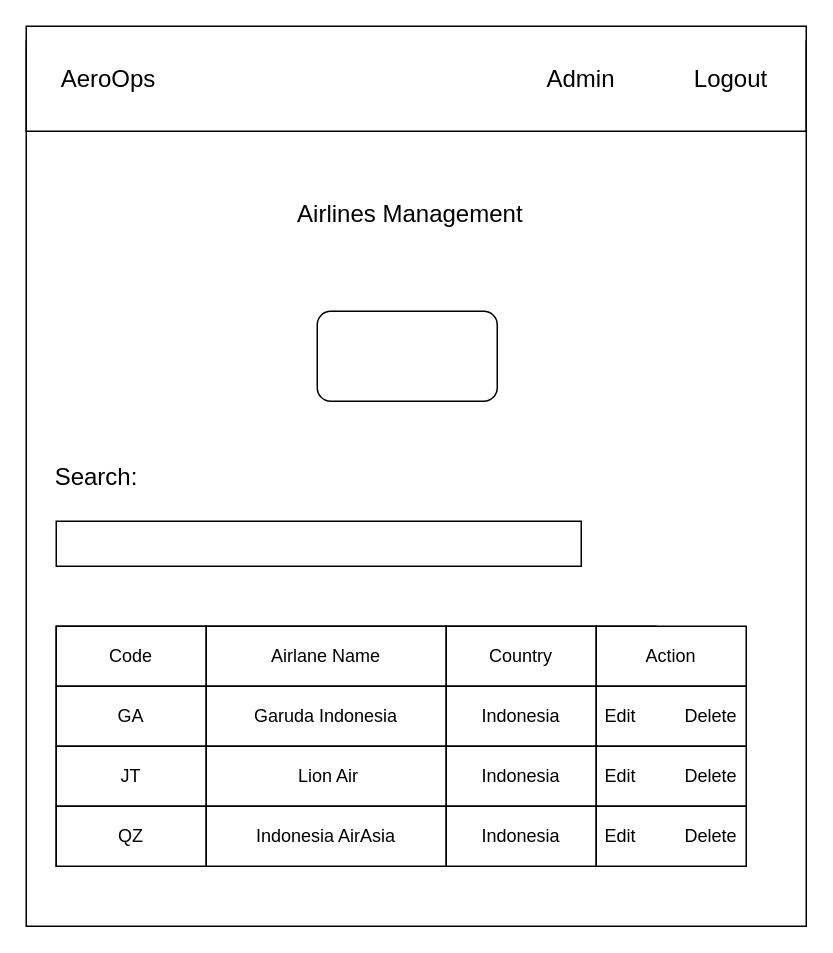
Some shapes in this 833 by 953 pixel diagram are drawn without their labels. The shapes that lost their labels are listed below. From the top down, each one's centre as x and y in pixels, then its label:
At (x=406, y=355): "Add Airline".
At (x=318, y=543): "Search airline...".
